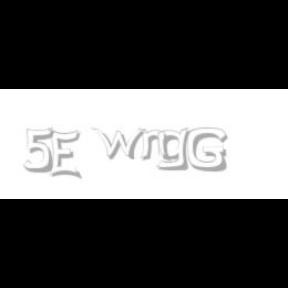5: (23, 128, 54, 174)
E: (48, 128, 80, 180)
G: (187, 128, 227, 172)
g: (156, 128, 194, 171)
n: (138, 128, 172, 162)
w: (92, 128, 150, 160)
